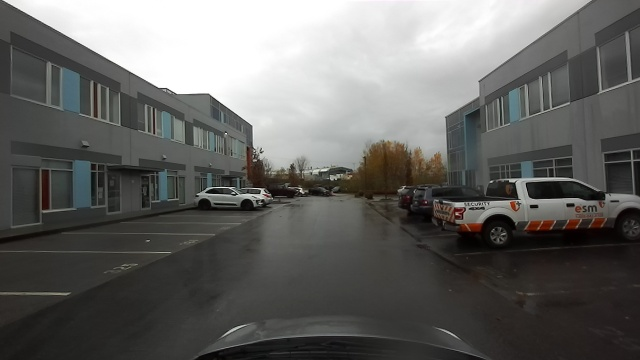car: (431, 174, 634, 246), (196, 184, 267, 212), (393, 182, 427, 222), (264, 181, 308, 198)
